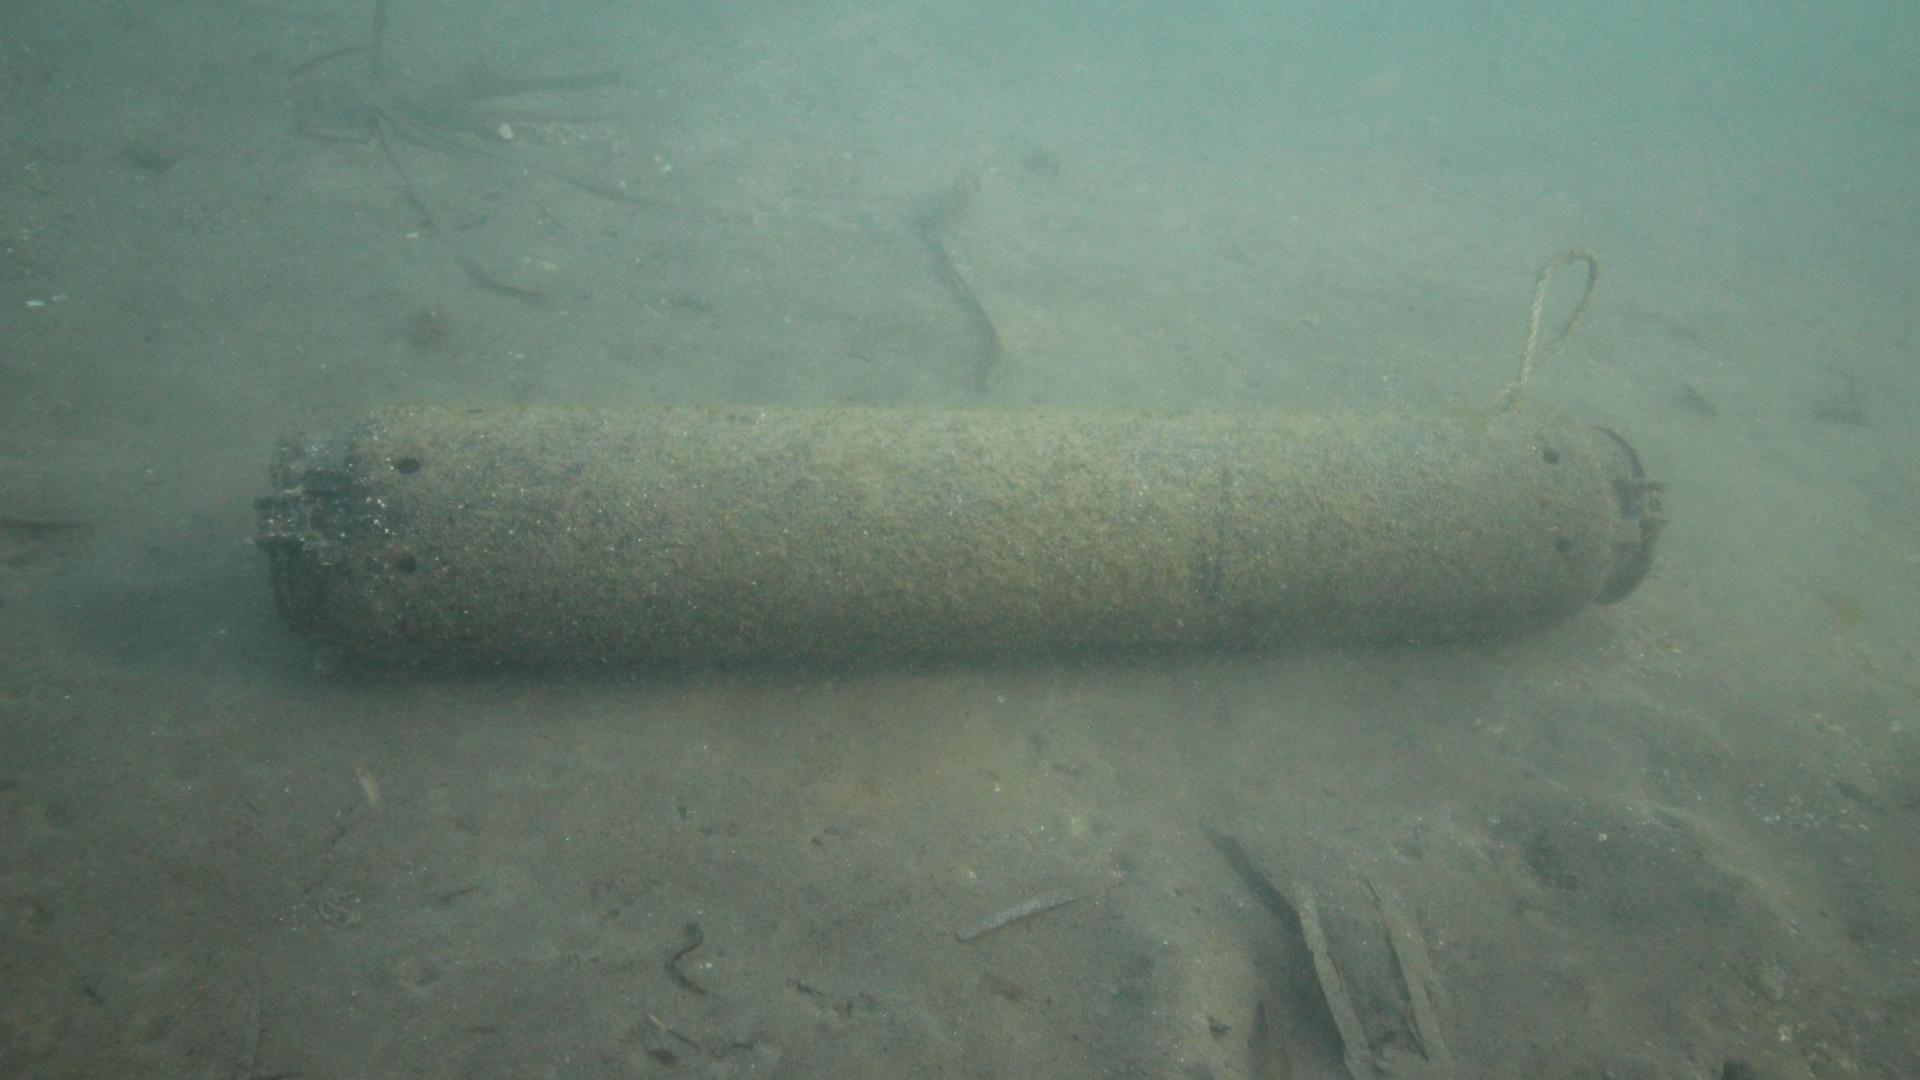eel fish trap: (252, 402, 1673, 669)
rope: (1487, 251, 1602, 405)
